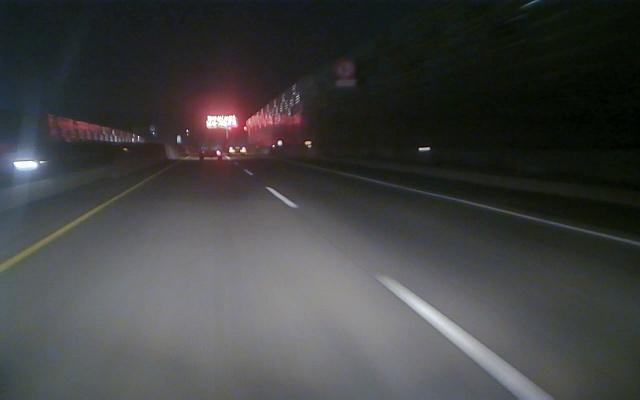lane: (265, 188, 555, 399), (343, 172, 640, 247), (1, 198, 116, 272)
